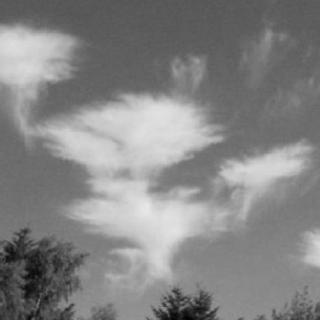Altocumulus: (0, 17, 320, 287)
